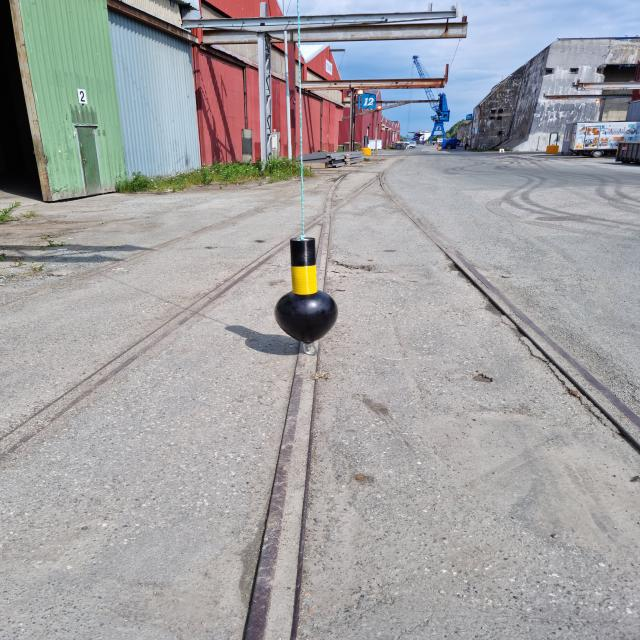east: (274, 238, 339, 342)
